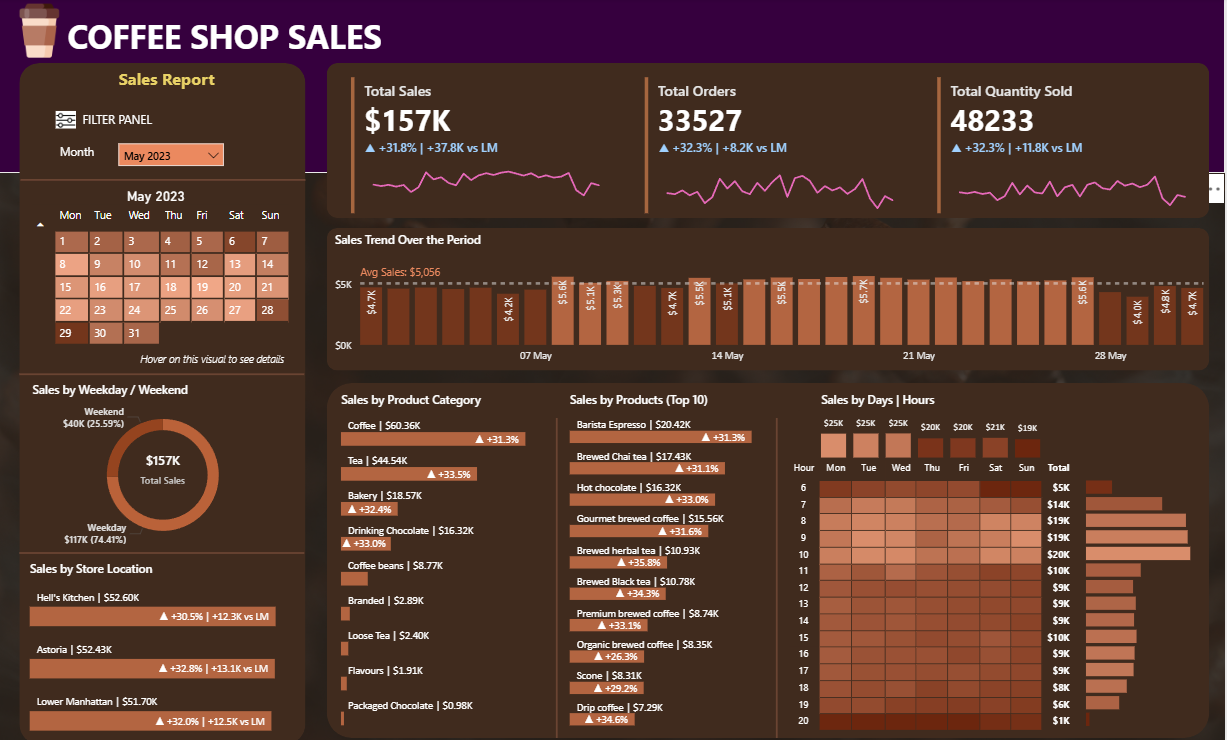

This screenshot's page, from the dashboard's own definition file:
{"tool":"powerbi","page":{"name":"Page 1","canvas":[1400,850],"ordinal":0},"visuals":[{"type":"shape","box":[0,0,1400.1,199.4],"z":0},{"type":"shape","box":[24.2,74.1,326.2,776.2],"z":1000},{"type":"shape","box":[374.6,74.1,1005.5,176.6],"z":2000},{"type":"textbox","box":[73.5,13.5,376.7,61.5],"z":3000},{"type":"cardVisual","fields":{"Data":["Transactions.Total Sales"]},"box":[397.7,85.5,300.2,165.1],"z":4000,"group":"g1"},{"type":"cardVisual","fields":{"Data":["Transactions.Total Orders"]},"box":[731.5,85.5,300.2,165.1],"z":4000,"group":"g2"},{"type":"cardVisual","fields":{"Data":["Transactions.Total Quantity Sold"]},"box":[1065.4,85.5,300.2,165.1],"z":4000,"group":"g3"},{"type":"slicer","fields":{"Values":["Date Table.Month Year"]},"box":[132.5,160.9,129.6,38.5],"z":4000},{"type":"group","id":"g1","title":"Group 1","box":[397.7,85.5,301.7,165.1],"z":5000},{"type":"lineChart","fields":{"Y":["Transactions.Total Sales"],"Category":["Date Table.Date.Variation.Date Hierarchy.Year","Date Table.Date.Variation.Date Hierarchy.Quarter","Date Table.Date.Variation.Date Hierarchy.Month","Date Table.Date.Variation.Date Hierarchy.Day"]},"box":[412.7,160.5,286.7,85.5],"z":5001,"group":"g1"},{"type":"lineChart","fields":{"Category":["Date Table.Date.Variation.Date Hierarchy.Year","Date Table.Date.Variation.Date Hierarchy.Quarter","Date Table.Date.Variation.Date Hierarchy.Month","Date Table.Date.Variation.Date Hierarchy.Day"],"Y":["Transactions.Total Orders"]},"box":[746.5,160.5,286.7,85.5],"z":5001,"group":"g2"},{"type":"lineChart","fields":{"Category":["Date Table.Date.Variation.Date Hierarchy.Year","Date Table.Date.Variation.Date Hierarchy.Quarter","Date Table.Date.Variation.Date Hierarchy.Month","Date Table.Date.Variation.Date Hierarchy.Day"],"Y":["Transactions.Total Quantity Sold"]},"box":[1080.4,160.5,286.7,85.5],"z":5001,"group":"g3"},{"type":"group","id":"g2","title":"Group 1","box":[731.5,85.5,301.7,165.1],"z":6000},{"type":"group","id":"g3","title":"Group 1","box":[1065.4,85.5,301.9,165.2],"z":7000},{"type":"pivotTable","fields":{"Rows":["Date Table.Week Number"],"Columns":["Date Table.Day Name"],"Values":["Min(Date Table.Day Number)"]},"box":[34.2,230.7,314.8,178],"z":8000},{"type":"card","fields":{"Values":["Min(Date Table.Month Year)"]},"box":[132.5,210.8,95.4,31.3],"z":9000},{"type":"card","fields":{"Values":["Transactions.Foot Note"]},"box":[149.5,397.4,189.4,22.8],"z":10000},{"type":"shape","box":[24.2,420.2,324.7,17.1],"z":11000},{"type":"shape","box":[25.6,203.7,324.7,7.1],"z":12000},{"type":"donutChart","title":"Sales by Weekday / Weekend","fields":{"Category":["Date Table.Weekday / Weekend"],"Y":["Transactions.Total Sales"]},"box":[34.2,437.3,307.6,195.1],"z":13000},{"type":"card","fields":{"Values":["Transactions.Total Sales"]},"box":[133.9,512.7,108.2,45.6],"z":14000},{"type":"shape","box":[24.2,623.8,324.7,17.1],"z":15000},{"type":"clusteredBarChart","title":"Sales by Store Location","fields":{"Category":["Transactions.store_location"],"Y":["Transactions.Placeholder","Transactions.Total Sales"]},"box":[31.3,640.9,317.6,202.2],"z":16000},{"type":"shape","box":[374.6,262.1,1005.5,162.4],"z":17000},{"type":"shape","box":[374.6,438.7,1005.5,404.5],"z":18000},{"type":"columnChart","title":"Sales Trend Over the Period","fields":{"Category":["Transactions.transaction_date"],"Y":["Transactions.Total Sales"]},"box":[378.9,266.3,1005.5,158.1],"z":19000},{"type":"clusteredBarChart","title":"Sales by Product Category","fields":{"Y":["Transactions.Placeholder","Transactions.Total Sales"],"Category":["Transactions.product_category"]},"box":[386,448.6,250.7,386],"z":20000},{"type":"shape","box":[626.7,478.6,19.9,364.6],"z":21000},{"type":"clusteredBarChart","title":"Sales by Products (Top 10)","fields":{"Y":["Transactions.Placeholder","Transactions.Total Sales"],"Category":["Transactions.product_type"]},"box":[646.6,448.6,250.7,386],"z":22000},{"type":"shape","box":[877.4,478.6,19.9,364.6],"z":23000},{"type":"pivotTable","fields":{"Rows":["Transactions.Hour"],"Columns":["Date Table.Day Name"],"Values":["Transactions.Total Sales"]},"box":[895.9,522.7,370.3,320.5],"z":24000},{"type":"barChart","fields":{"Category":["Transactions.Hour"],"Y":["Transactions.Total Sales"]},"box":[1234.8,536.9,131,297.7],"z":25000},{"type":"columnChart","title":"Sales by Days | Hours","fields":{"Y":["Transactions.Total Sales"],"Category":["Date Table.Day Name"]},"box":[932.9,448.6,260.6,81.2],"z":26000},{"type":"textbox","box":[47,160.9,86.9,38.5],"z":27000},{"type":"textbox","box":[132.5,74.1,129.6,35.6],"z":28000},{"type":"textbox","box":[91.2,123.9,136.7,37],"z":29000},{"type":"image","box":[51.3,123.9,52.7,29.9],"z":30000},{"type":"image","box":[11.4,0,71.2,74.1],"z":31000}]}

Visuals, with their boxes in screenshot pixels (x1, y1, x2, y2), scaled from the page's 1400x850 canvas onto the 1227x740 screenshot:
shape: 0/0/1226/174
shape: 21/65/307/739
shape: 328/65/1210/218
textbox: 64/12/395/65
cardVisual - Transactions.Total Sales: 349/74/612/218
cardVisual - Transactions.Total Orders: 641/74/904/218
cardVisual - Transactions.Total Quantity Sold: 934/74/1197/218
slicer - Date Table.Month Year: 116/140/230/174
"Group 1" group: 349/74/613/218
lineChart - Transactions.Total Sales x Date Table.Date.Variation.Date Hierarchy.Year: 362/140/613/214
lineChart - Date Table.Date.Variation.Date Hierarchy.Year x Date Table.Date.Variation.Date Hierarchy.Quarter: 654/140/906/214
lineChart - Date Table.Date.Variation.Date Hierarchy.Year x Date Table.Date.Variation.Date Hierarchy.Quarter: 947/140/1198/214
"Group 1" group: 641/74/906/218
"Group 1" group: 934/74/1198/218
pivotTable - Date Table.Week Number x Date Table.Day Name: 30/201/306/356
card - Min(Date Table.Month Year): 116/184/200/211
card - Transactions.Foot Note: 131/346/297/366
shape: 21/366/306/381
shape: 22/177/307/184
"Sales by Weekday / Weekend" donutChart: 30/381/300/551
card - Transactions.Total Sales: 117/446/212/486
shape: 21/543/306/558
"Sales by Store Location" clusteredBarChart: 27/558/306/734
shape: 328/228/1210/370
shape: 328/382/1210/734
"Sales Trend Over the Period" columnChart: 332/232/1213/369
"Sales by Product Category" clusteredBarChart: 338/391/558/727
shape: 549/417/567/734
"Sales by Products (Top 10)" clusteredBarChart: 567/391/786/727
shape: 769/417/786/734
pivotTable - Transactions.Hour x Date Table.Day Name: 785/455/1110/734
barChart - Transactions.Hour x Transactions.Total Sales: 1082/467/1197/727
"Sales by Days | Hours" columnChart: 818/391/1046/461
textbox: 41/140/117/174
textbox: 116/65/230/96
textbox: 80/108/200/140
image: 45/108/91/134
image: 10/0/72/65
